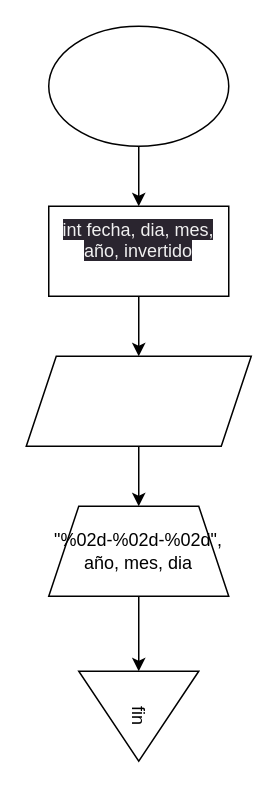
Image size: 278x788. Some labels were removed from this diagram. Each missing label, with the centre of its shape:
"Cambio de formato" goes at (x=138, y=85).
"fecha = 120597 dia = fecha % 100 mes = fecha / 100 % 100 año = fecha / 10000" goes at (x=138, y=400).
